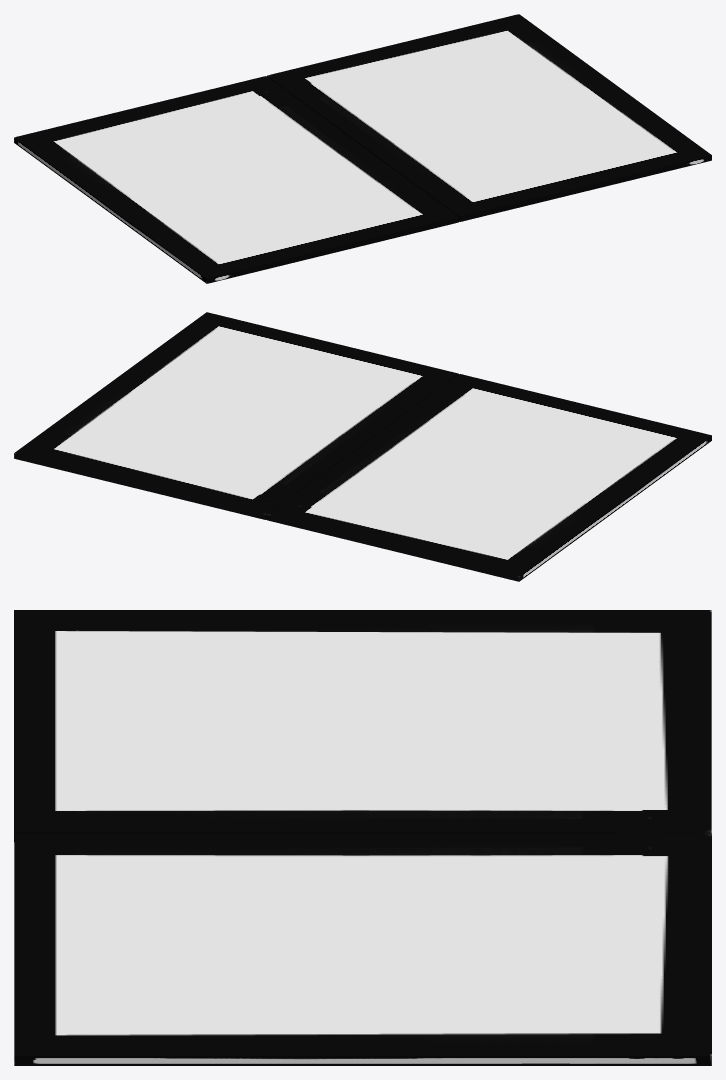
Rendered from trapDoor.fbx.
The picture shows the model from 3 angles, top to bottom: view 1: azimuth 30°, elevation 25°; view 2: azimuth 150°, elevation 25°; view 3: azimuth 270°, elevation 25°; orthographic projection. The views are drawn at different scales.
Parts seen in each view (by area): view 1: trapDoor01, trapDoor02; view 2: trapDoor01, trapDoor02; view 3: trapDoor02, trapDoor01.
Part boxes in pixels (x1,y1,x2,y2): trapDoor01: (14, 76, 458, 283); trapDoor02: (267, 14, 711, 221); trapDoor01: (267, 374, 711, 581); trapDoor02: (14, 312, 458, 519); trapDoor02: (14, 833, 711, 1065); trapDoor01: (14, 610, 711, 841).
Bounding box in the file's own units: 299 × 3.08 × 198.
